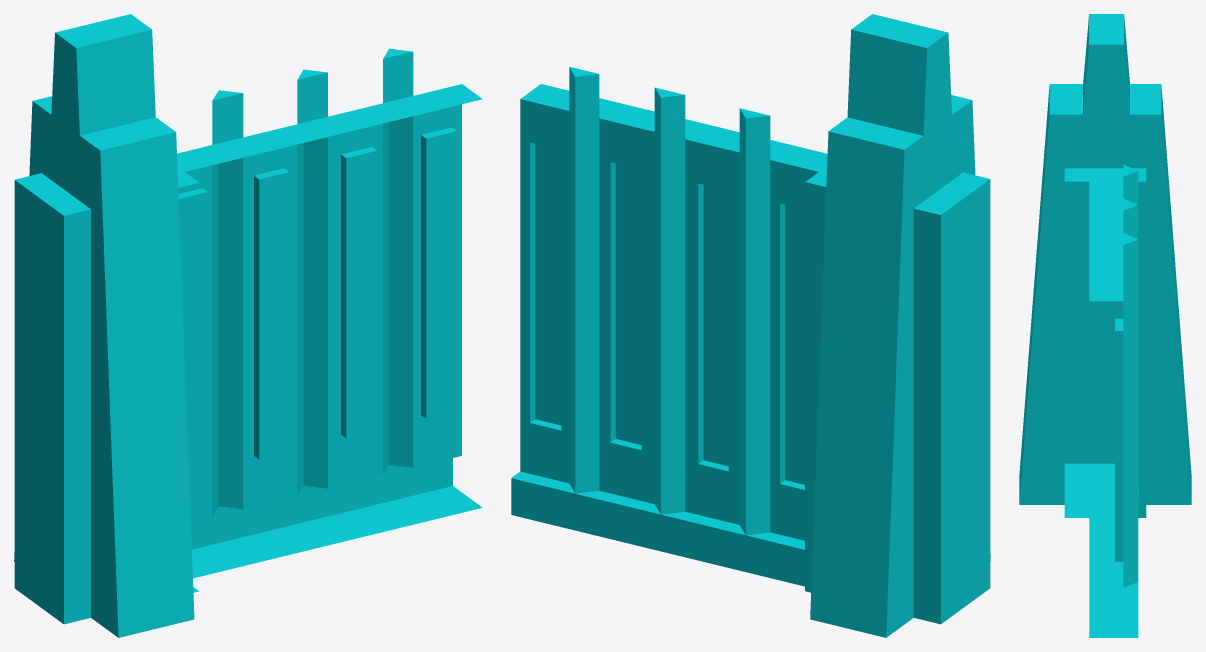
File: Brutalist_wall.fbx
3 views of the same model, side by side, from view 1: azimuth 30°, elevation 25°; view 2: azimuth 150°, elevation 25°; view 3: azimuth 270°, elevation 25° (orthographic). The views are drawn at different scales.
Parts seen in each view (by area): view 1: Brutalist_wall; view 2: Brutalist_wall; view 3: Brutalist_wall.
Boxes of the visible parts, bbox=[...] form: Brutalist_wall: bbox=[14, 14, 482, 637]; Brutalist_wall: bbox=[511, 14, 990, 637]; Brutalist_wall: bbox=[1019, 14, 1191, 637].
Bounding box in the file's own units: 400 × 493 × 167.
